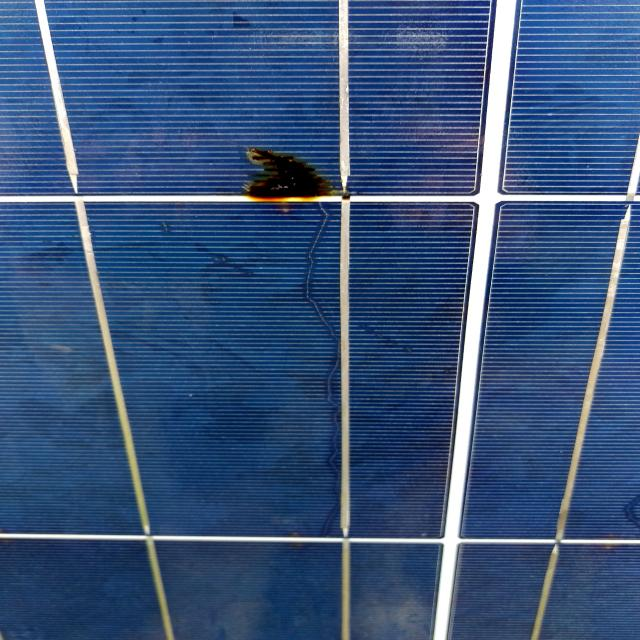shadow: (242, 128, 356, 304)
